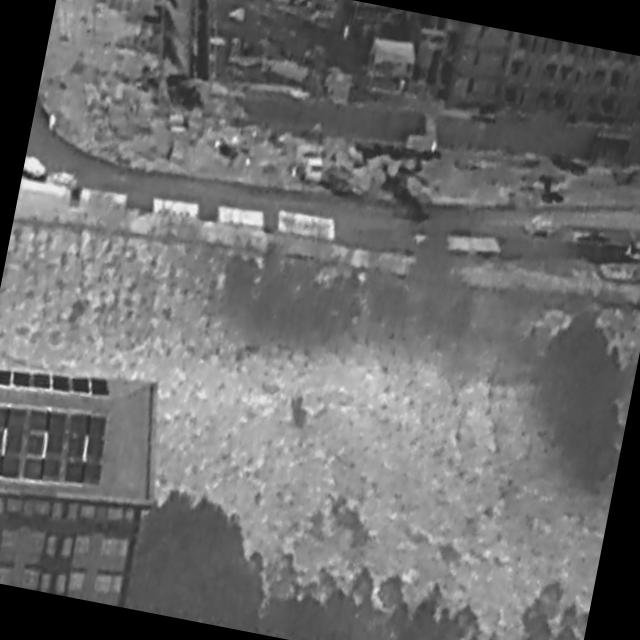person: (48, 110, 61, 132), (343, 21, 353, 40), (431, 138, 440, 156)
